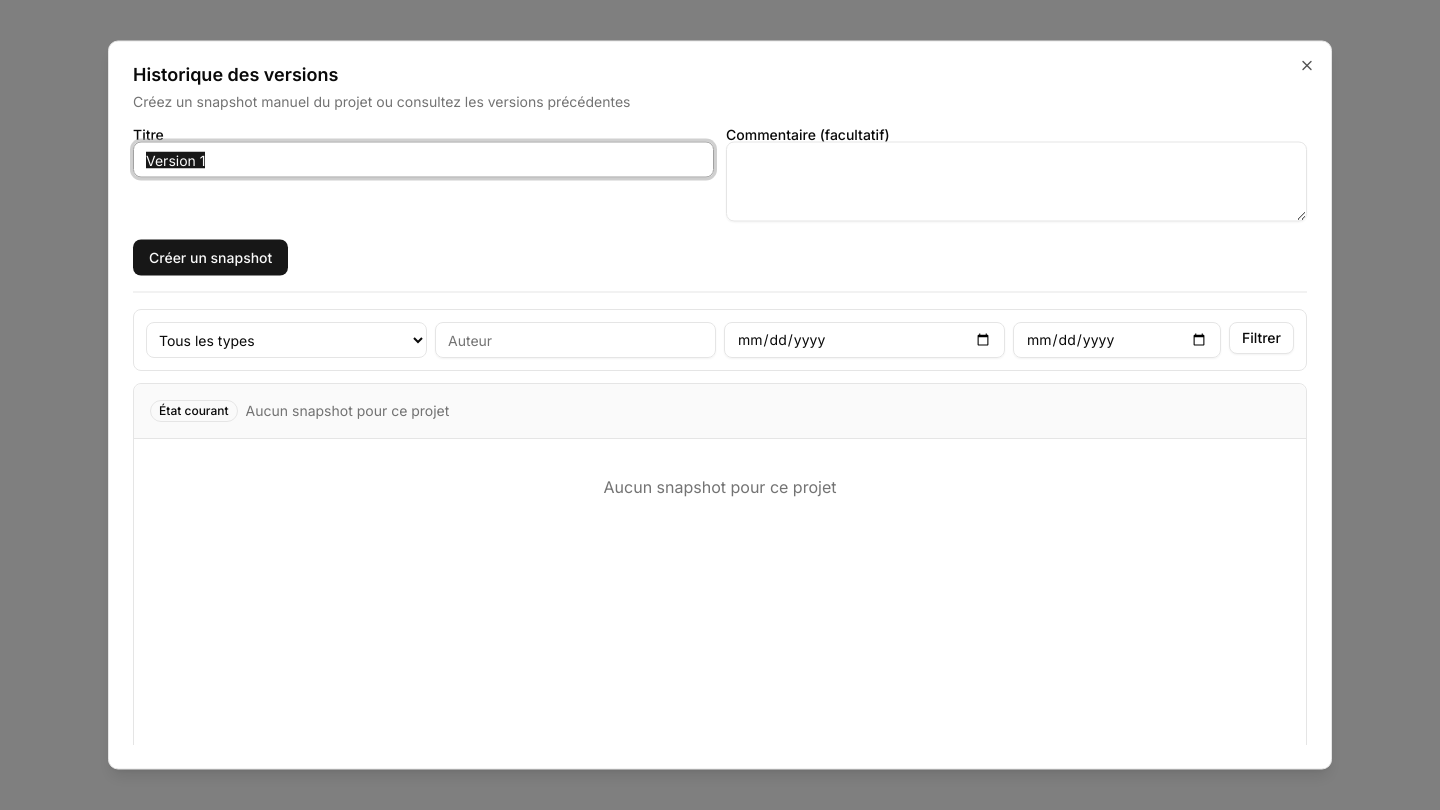
Test case: SnapshotHistoryDialog › shows a clear error and does not add a snapshot when creation fails server-side
Click the button "Créer un snapshot" at (211, 258), box [133,240,288,276]
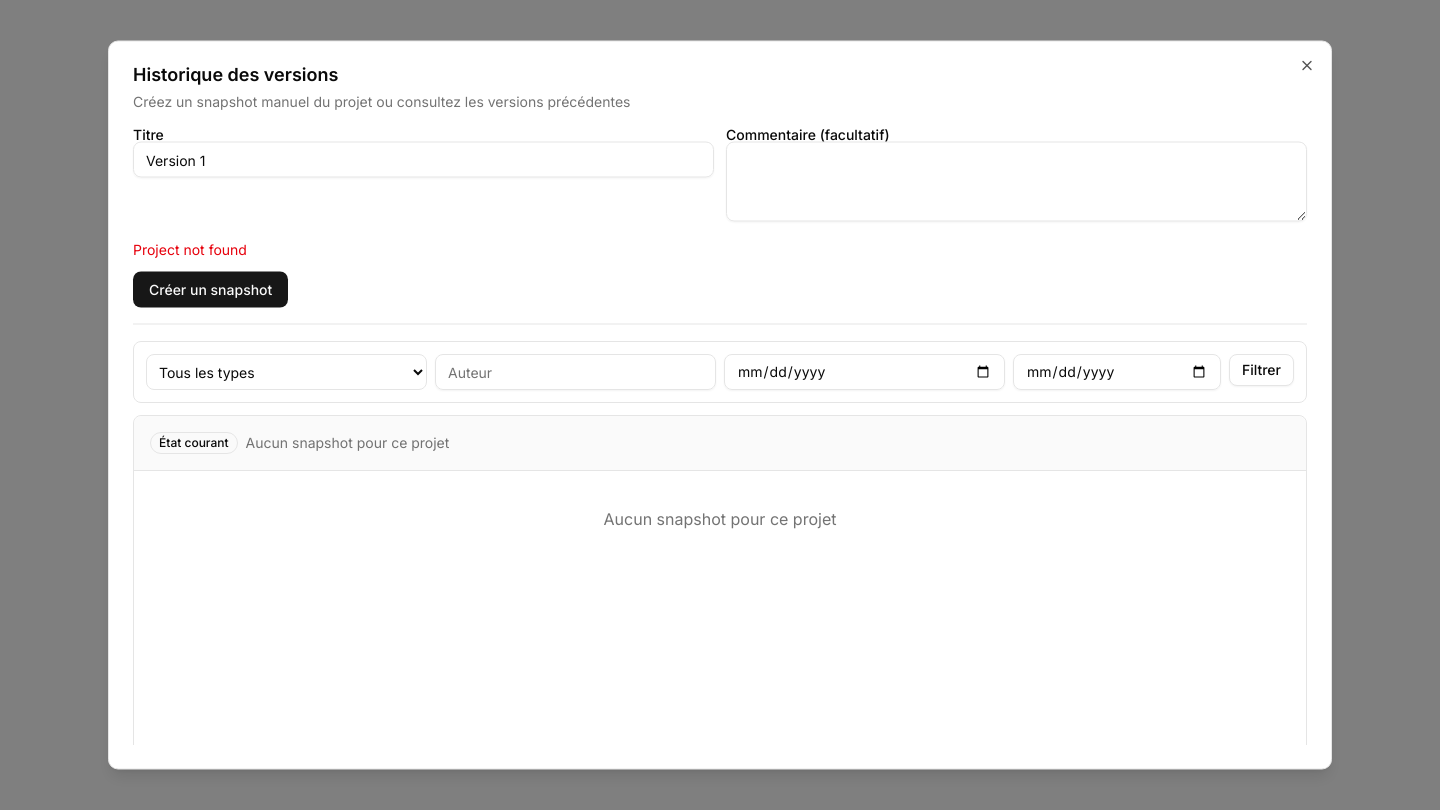
Expected: the text "Project not found" is shown, [133,240,247,258]
